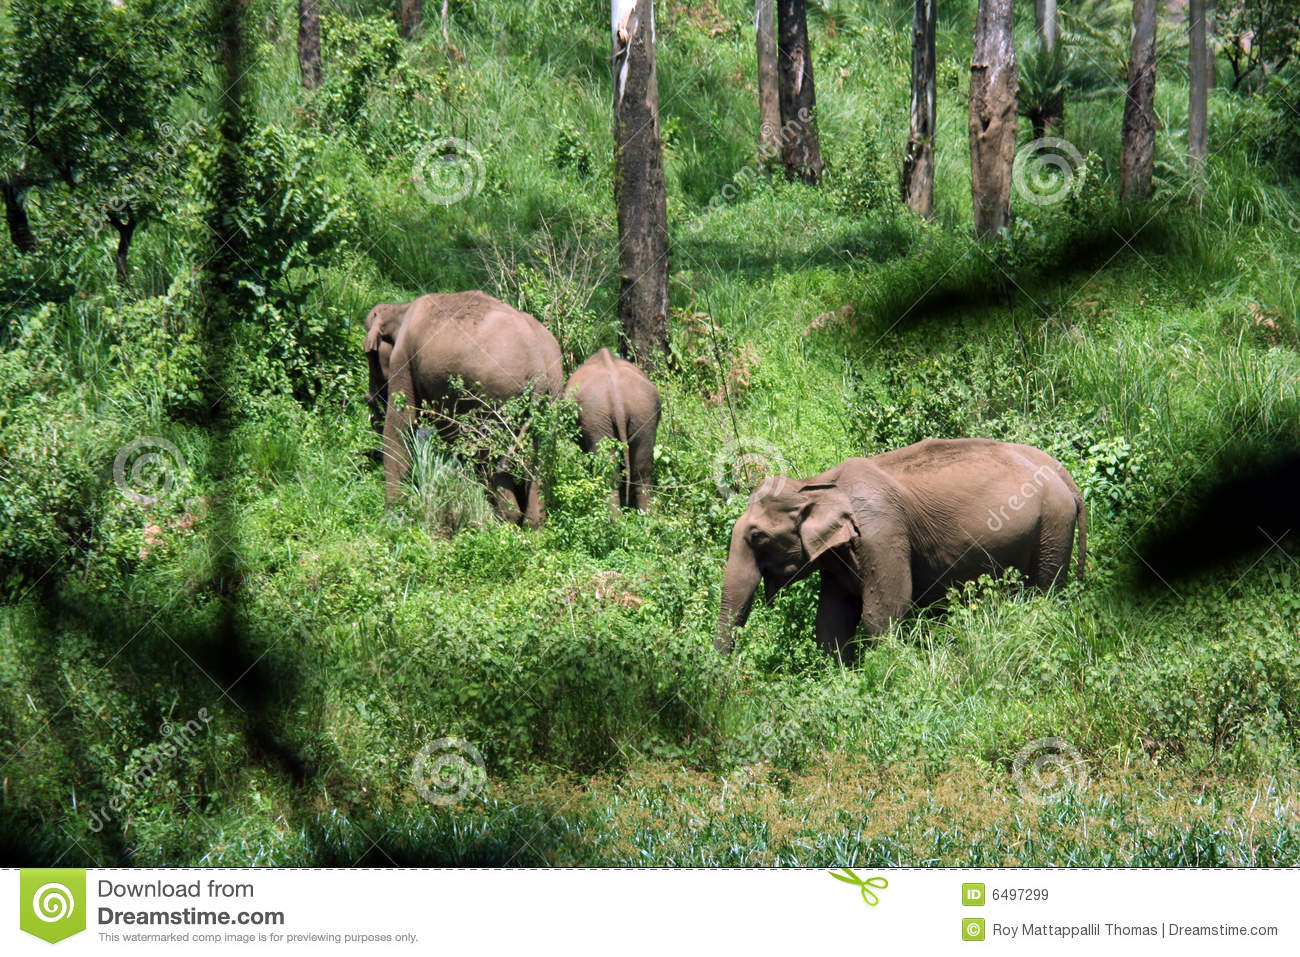Indian Elephant: (707, 435, 1140, 684), (339, 275, 576, 534), (551, 343, 685, 524)
